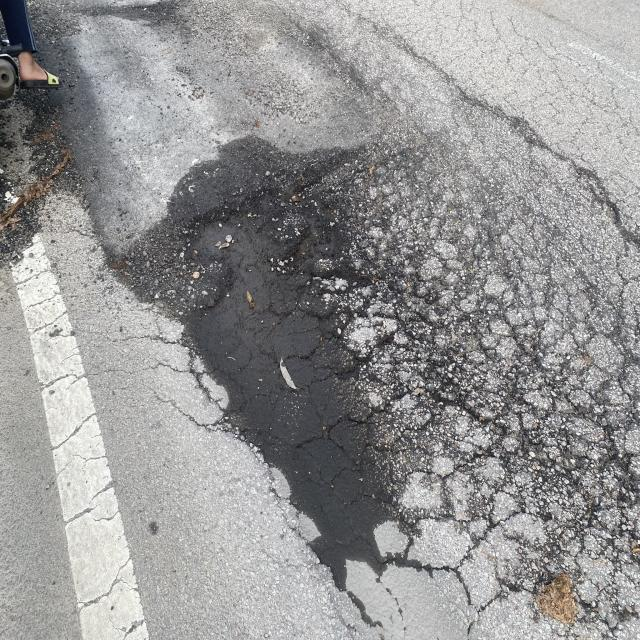Pothole: (130, 136, 411, 574)
